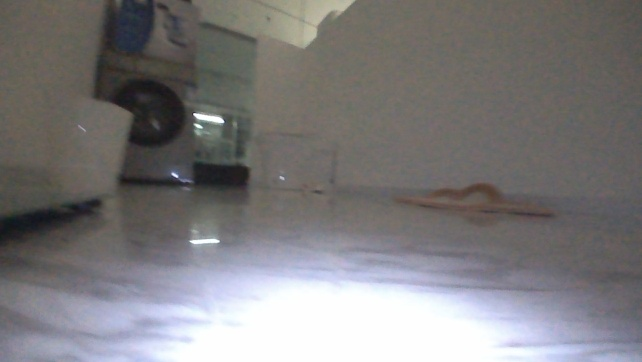slipper: (388, 175, 565, 226)
toilet: (250, 124, 350, 195)
washing_machine1: (85, 37, 202, 194)
